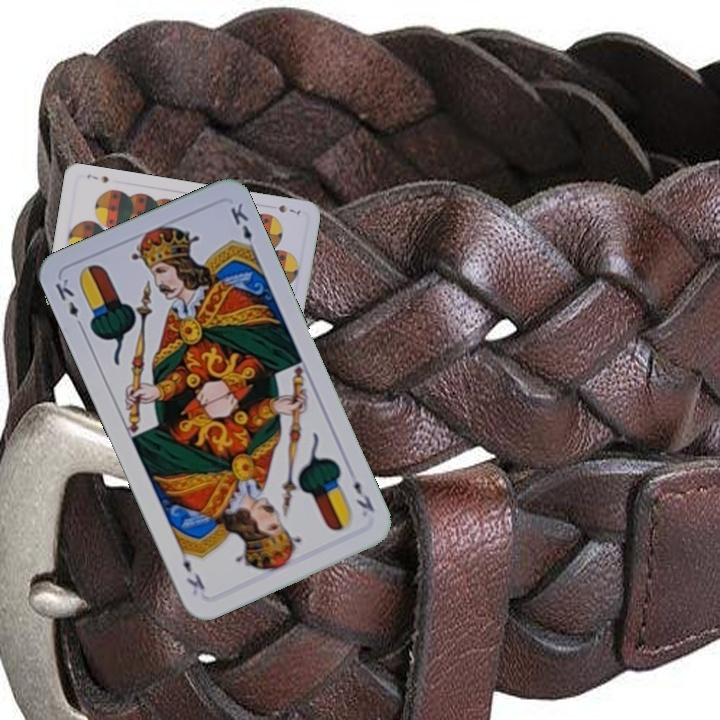EK: (51, 274, 87, 332), (349, 476, 377, 515)
S7: (274, 201, 303, 218)
